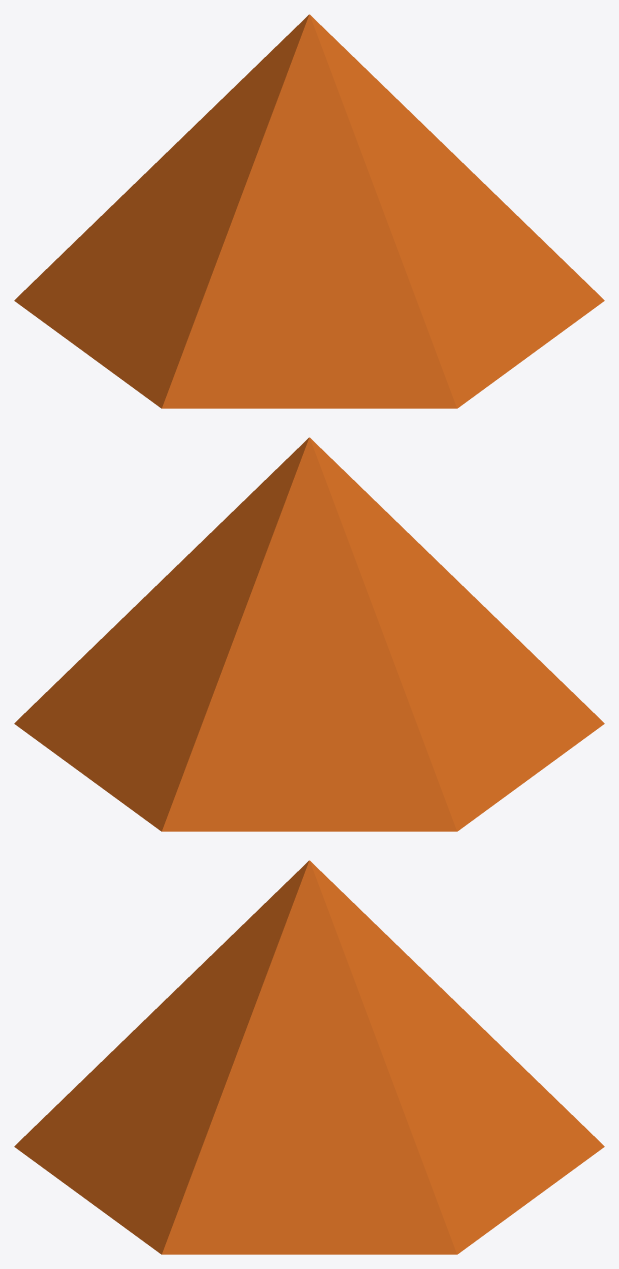
Rendered from RPG_Tiles_Hex_Building_Roof_04.FBX.
3 views of the same model, one above another, from view 1: azimuth 30°, elevation 25°; view 2: azimuth 150°, elevation 25°; view 3: azimuth 270°, elevation 25° (orthographic).
Parts seen in each view (by area): view 1: RPG_Tiles_Hex_Building_Roof_04; view 2: RPG_Tiles_Hex_Building_Roof_04; view 3: RPG_Tiles_Hex_Building_Roof_04.
Part boxes in pixels (box(x1,y1,x2,y2)): RPG_Tiles_Hex_Building_Roof_04: box(14, 14, 604, 408); RPG_Tiles_Hex_Building_Roof_04: box(14, 437, 604, 831); RPG_Tiles_Hex_Building_Roof_04: box(14, 860, 604, 1254).
Size of the model in its own units: 3000 by 1853 by 3464.
